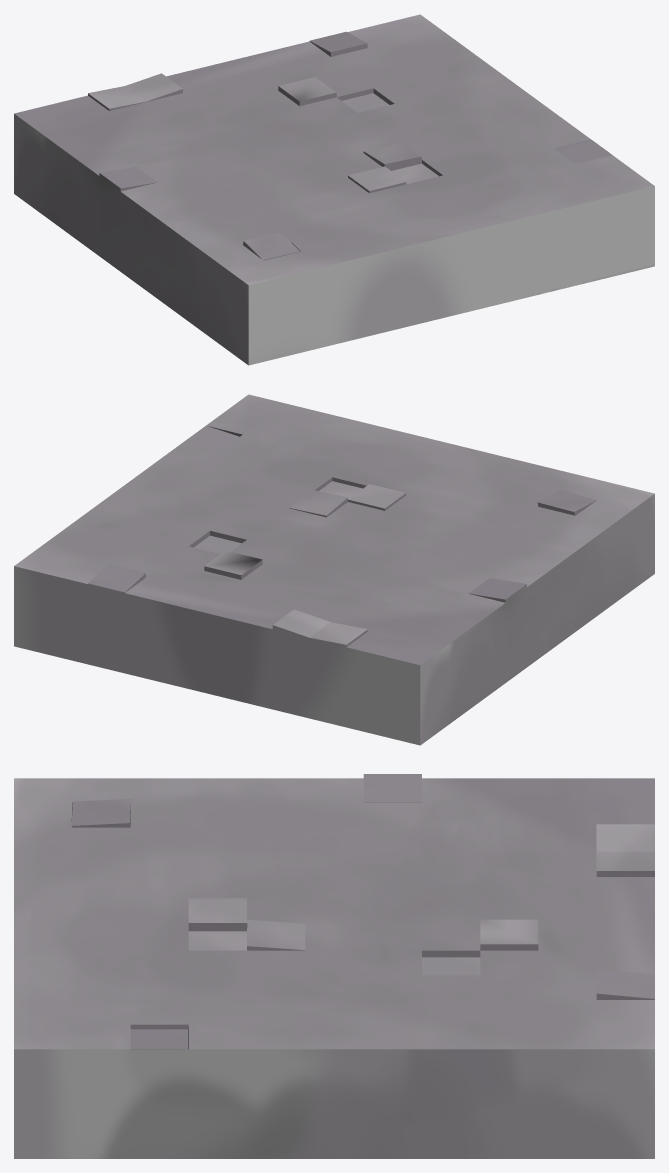
File: stone_floor.fbx
The picture shows the model from 3 angles, top to bottom: view 1: azimuth 30°, elevation 25°; view 2: azimuth 150°, elevation 25°; view 3: azimuth 270°, elevation 25°; orthographic projection. The views are drawn at different scales.
Visible parts, largest first — view 1: floor.002; view 2: floor.002; view 3: floor.002.
Boxes of the visible parts, <box> form: floor.002: <box>14,14,654,365</box>; floor.002: <box>14,394,654,745</box>; floor.002: <box>14,774,654,1158</box>.
Size of the model in its own units: 1000 by 200 by 1000.
